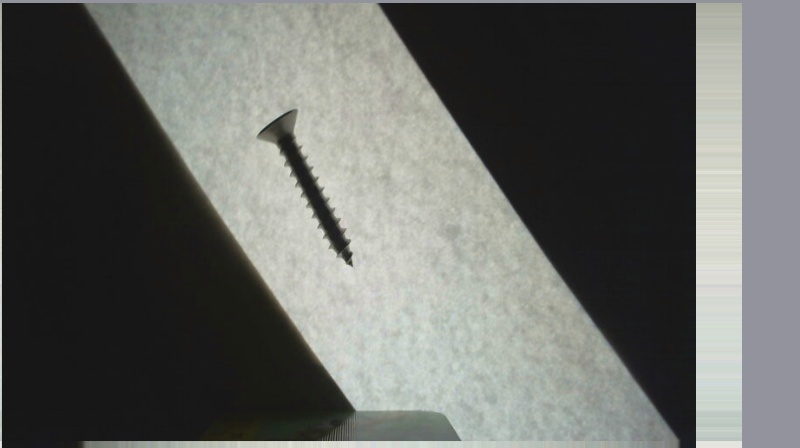S001: (252, 103, 359, 271)
